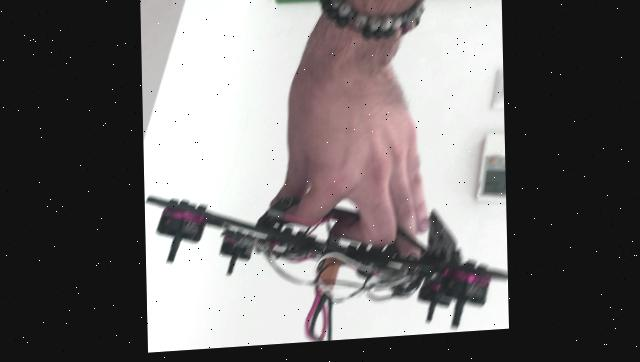drone: (144, 176, 507, 355)
